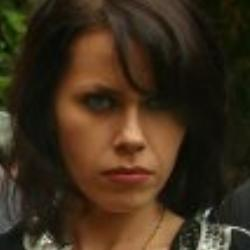face: (5, 2, 215, 234)
